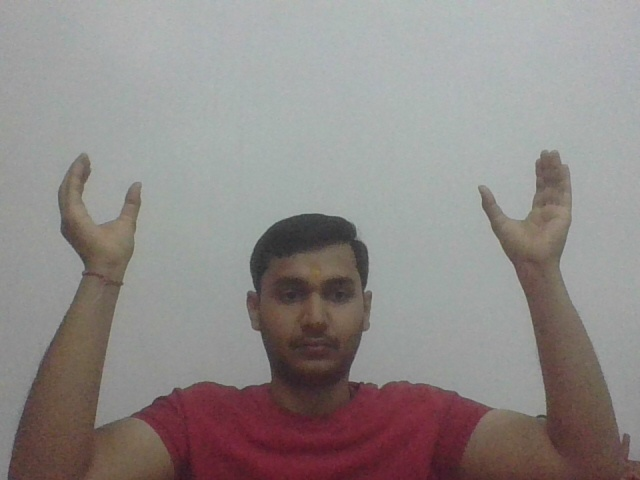U: (479, 147, 577, 274), (52, 150, 147, 273)
